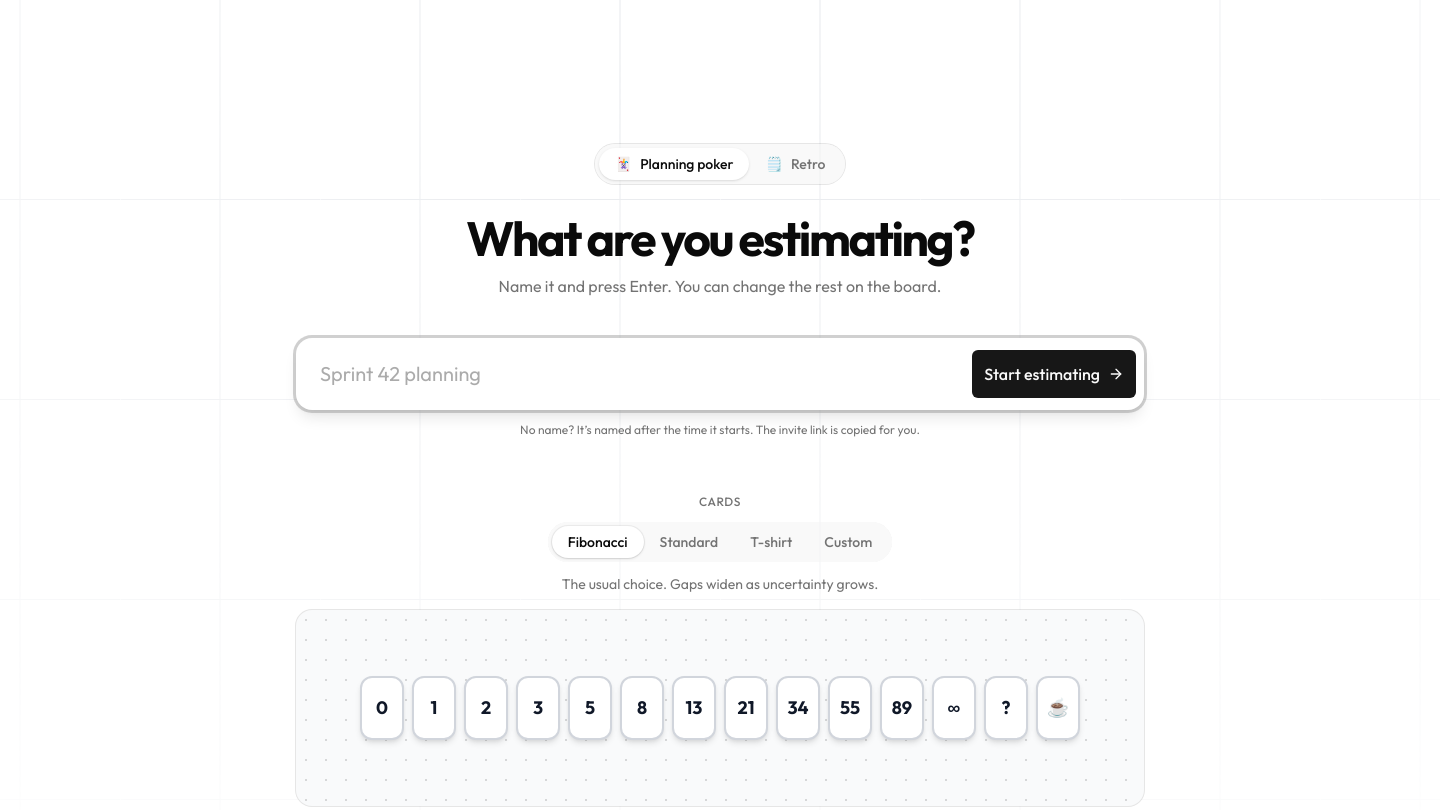
Scenario: CreateContent's custom pick, as the deck reads it › says why the deck can't start yet in the deck's own words, until it can
The width and height of the screenshot is (1440, 810).
Click the radio button labelled "Custom".
click(848, 542)  # box [824,533,872,551]
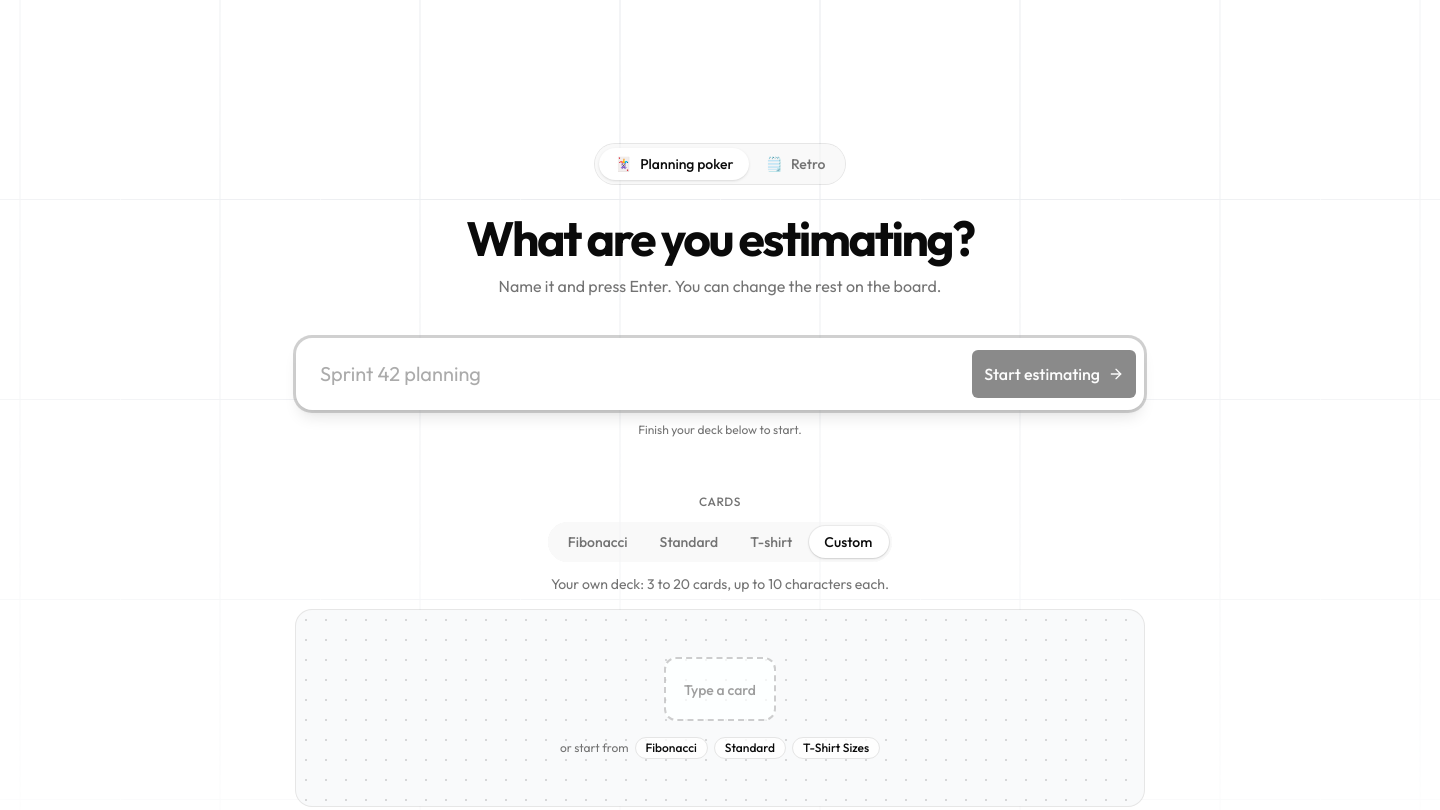
Type "8," into the field named "Add a card".
click(720, 689); type("8,")  # box [664,657,776,721]
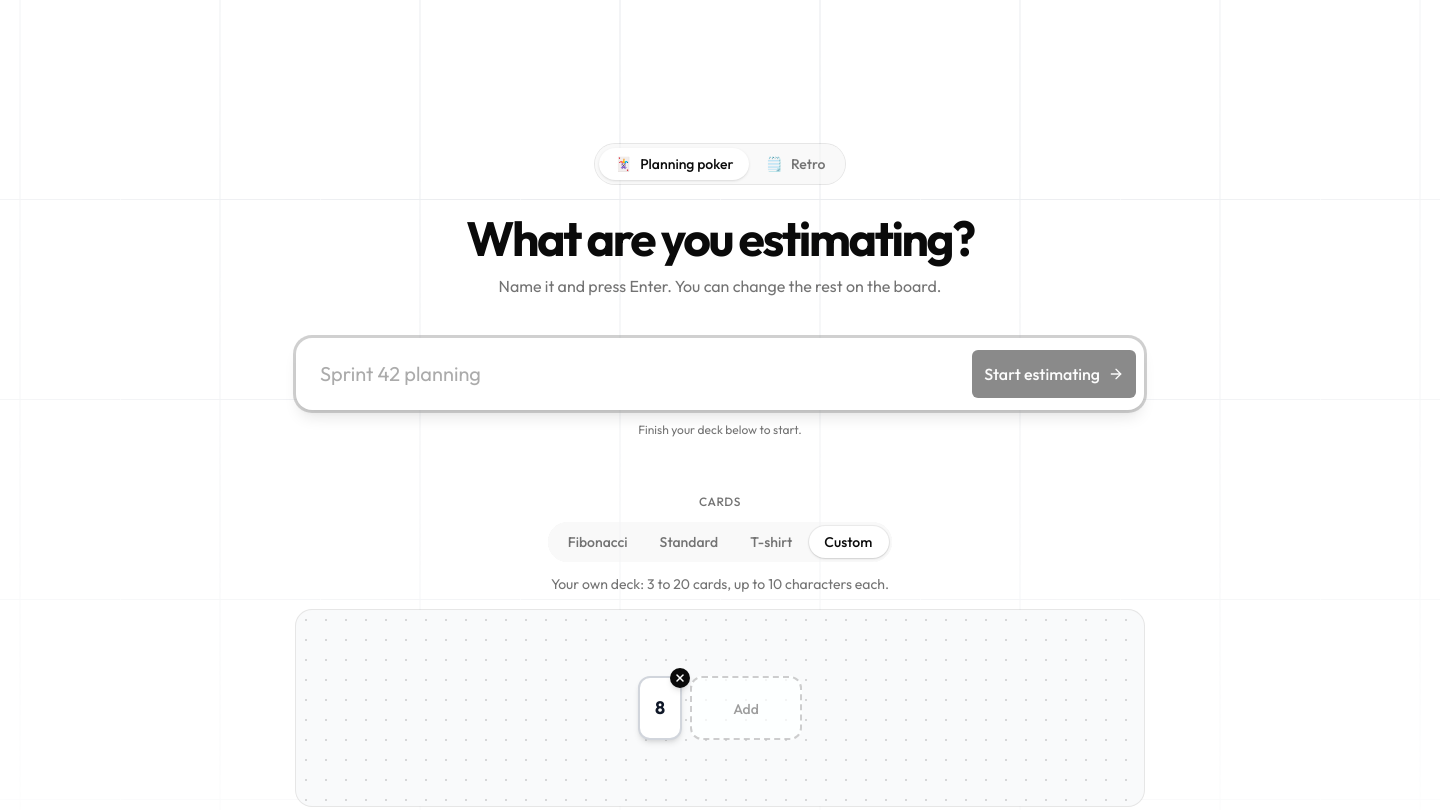
Expected: the text "Finish your deck below to start." is shown, [638,422,802,437]
Type "13, 21," into the field named "Add a card".
click(746, 708); type("13, 21,")  # box [690,676,802,740]
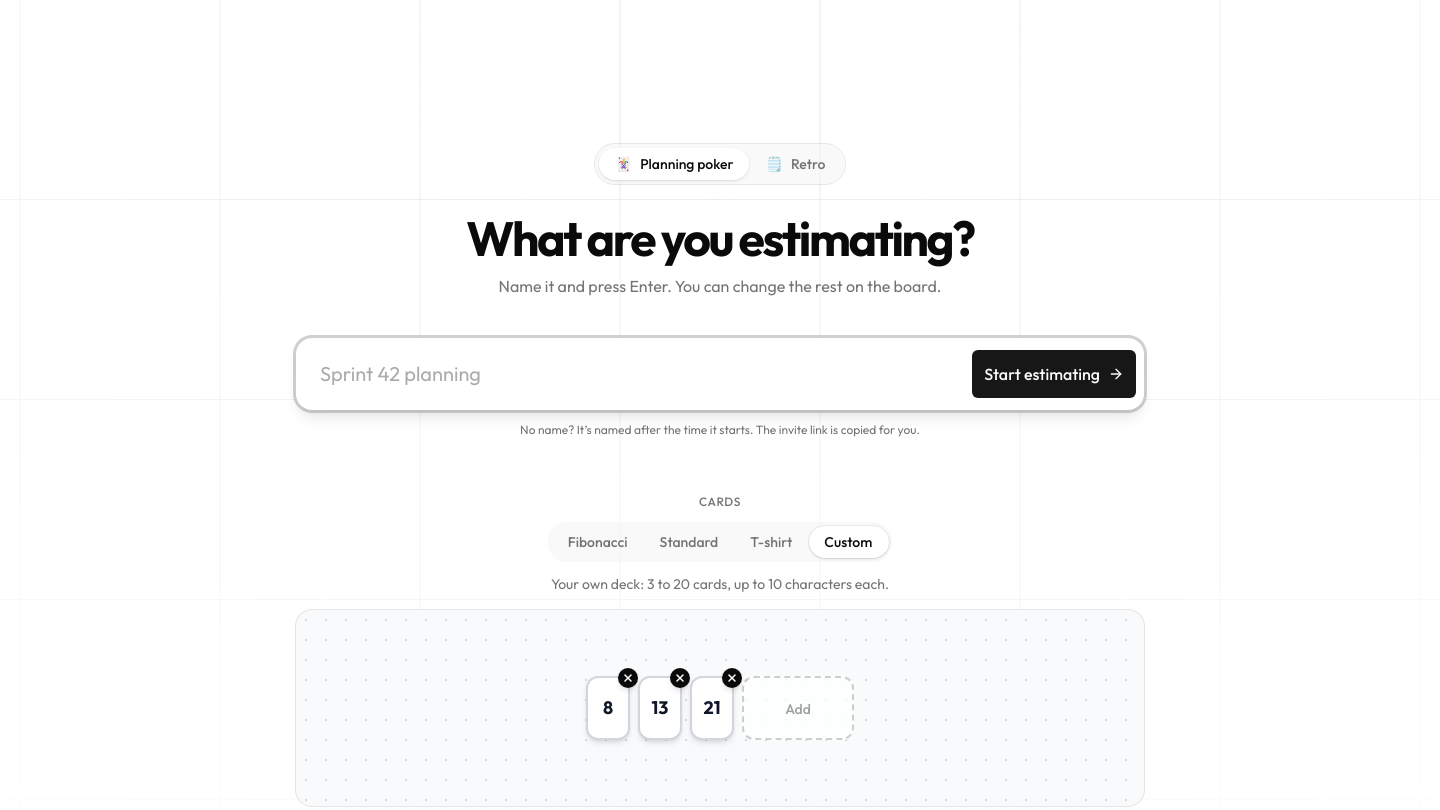
Expected: the button "Start estimating" is enabled, [972,350,1136,398]
